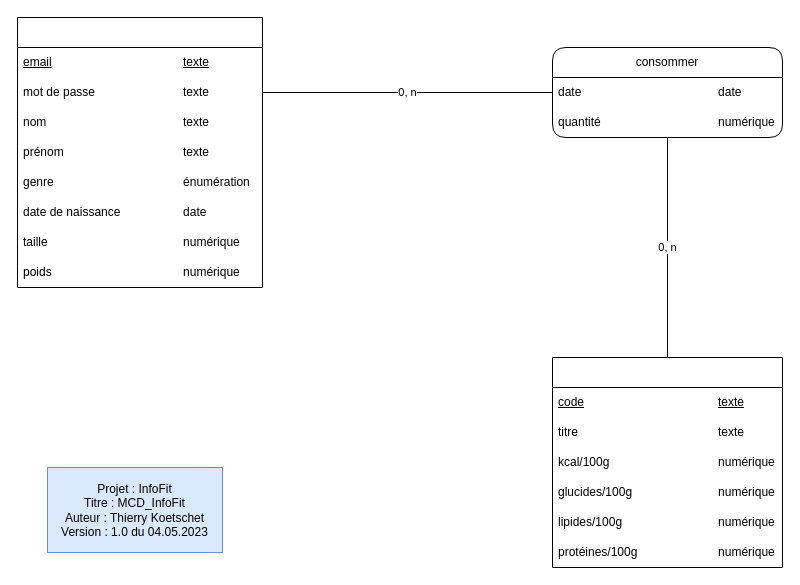
This 800x585 diagram has some shape labels left out. The box of each missing label's shape, as (x1, y1, x2, y2) in pixels:
aliments: (552, 356, 782, 568)
utilisateurs: (16, 16, 262, 288)
